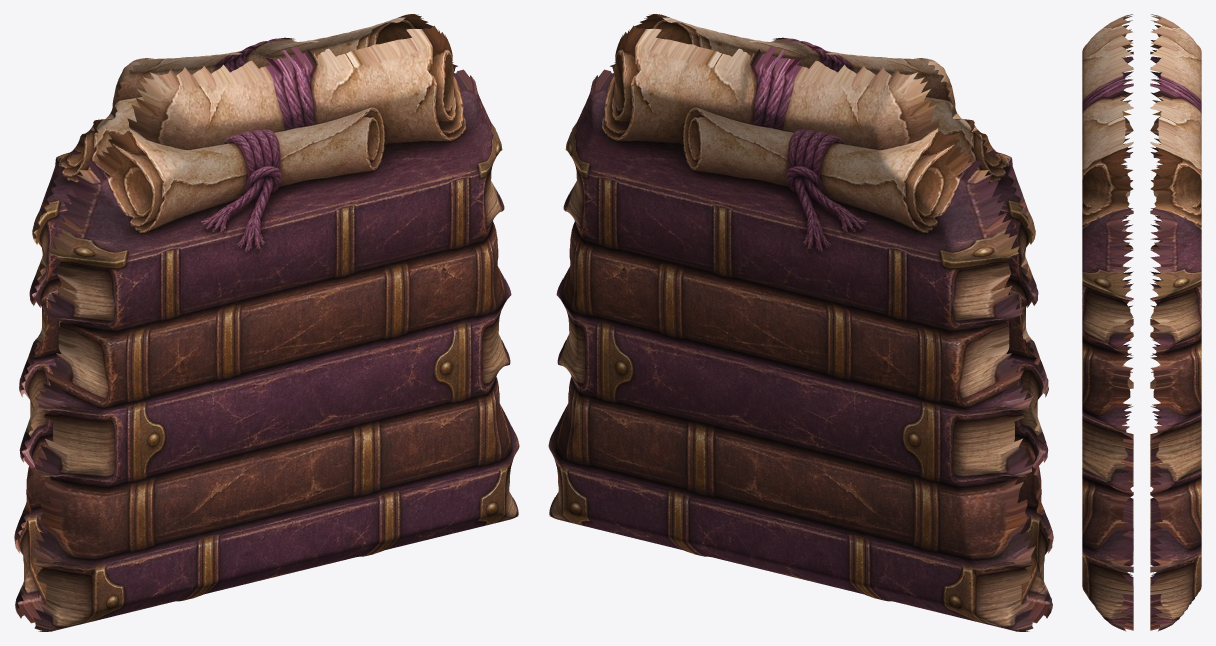
The model's file is v4-arcane-emporium-scatter-dress-books-scrolls.glb.
The picture shows the model from 3 angles, left to right: view 1: azimuth 30°, elevation 25°; view 2: azimuth 150°, elevation 25°; view 3: azimuth 270°, elevation 25°; orthographic projection. The views are drawn at different scales.
Parts seen in each view (by area): view 1: v4-arcane-emporium-scatter-dress-books-scrolls; view 2: v4-arcane-emporium-scatter-dress-books-scrolls; view 3: v4-arcane-emporium-scatter-dress-books-scrolls.
Boxes of the visible parts, left/top/right/bottom form: v4-arcane-emporium-scatter-dress-books-scrolls: left=14, top=14, right=519, bottom=631; v4-arcane-emporium-scatter-dress-books-scrolls: left=548, top=14, right=1053, bottom=631; v4-arcane-emporium-scatter-dress-books-scrolls: left=1082, top=14, right=1201, bottom=631.
Size of the model in its own units: 0.9412 by 0.9875 by 0.2289.
Materials: 1 (1 with a texture image).
